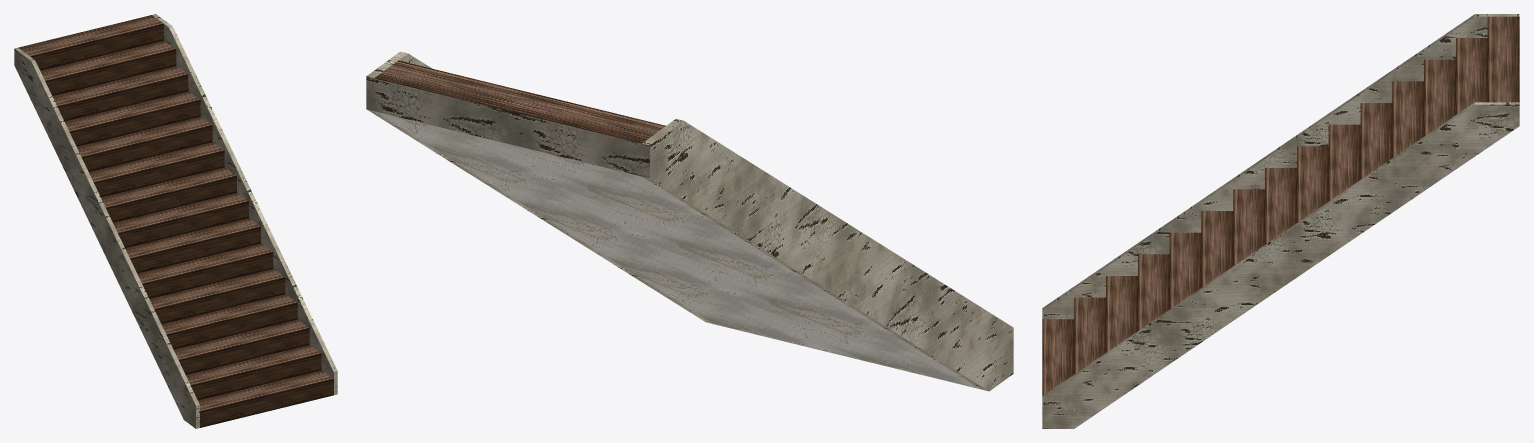
The model's file is house_stairs.glb.
The picture shows the model from 3 angles, left to right: view 1: azimuth 30°, elevation 25°; view 2: azimuth 150°, elevation 25°; view 3: azimuth 270°, elevation 25°; orthographic projection. The views are drawn at different scales.
Visible parts, largest first — view 1: house_stairs; view 2: house_stairs; view 3: house_stairs.
Boxes of the visible parts, box(x1,y1,x2,y2) form: house_stairs: box(14, 14, 337, 428); house_stairs: box(366, 51, 1013, 391); house_stairs: box(1042, 14, 1519, 428).
Bounding box in the file's own units: 1.8 × 3 × 4.
3 materials, 3 textured.
